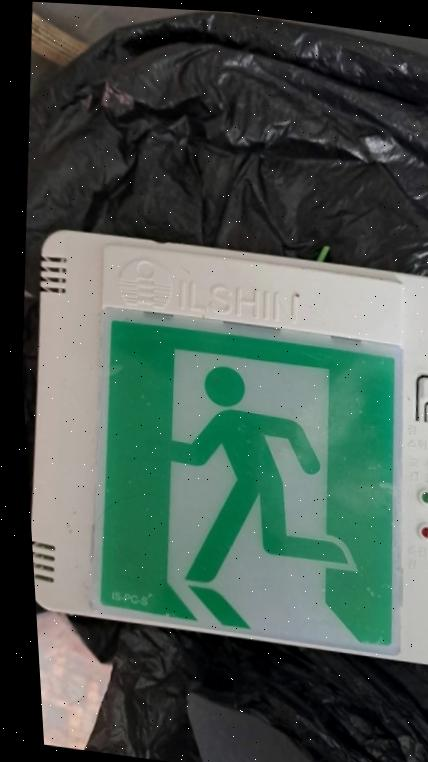emergency_exit: (32, 229, 426, 665)
